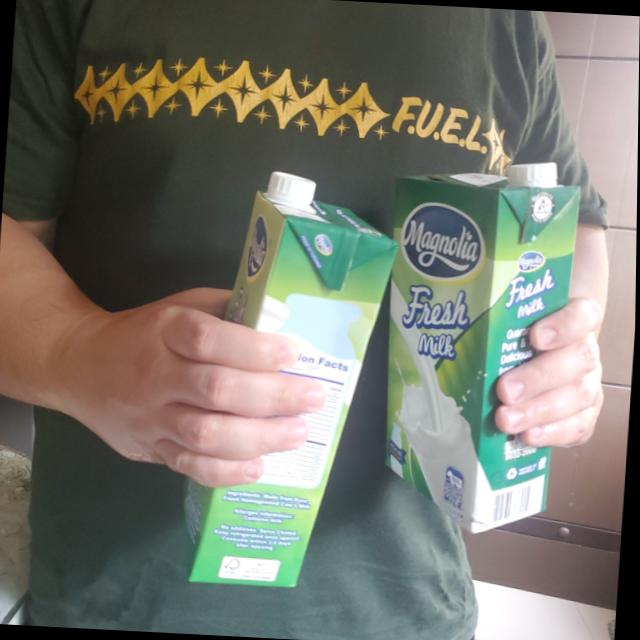milk: (171, 166, 403, 591), (371, 152, 583, 535)
